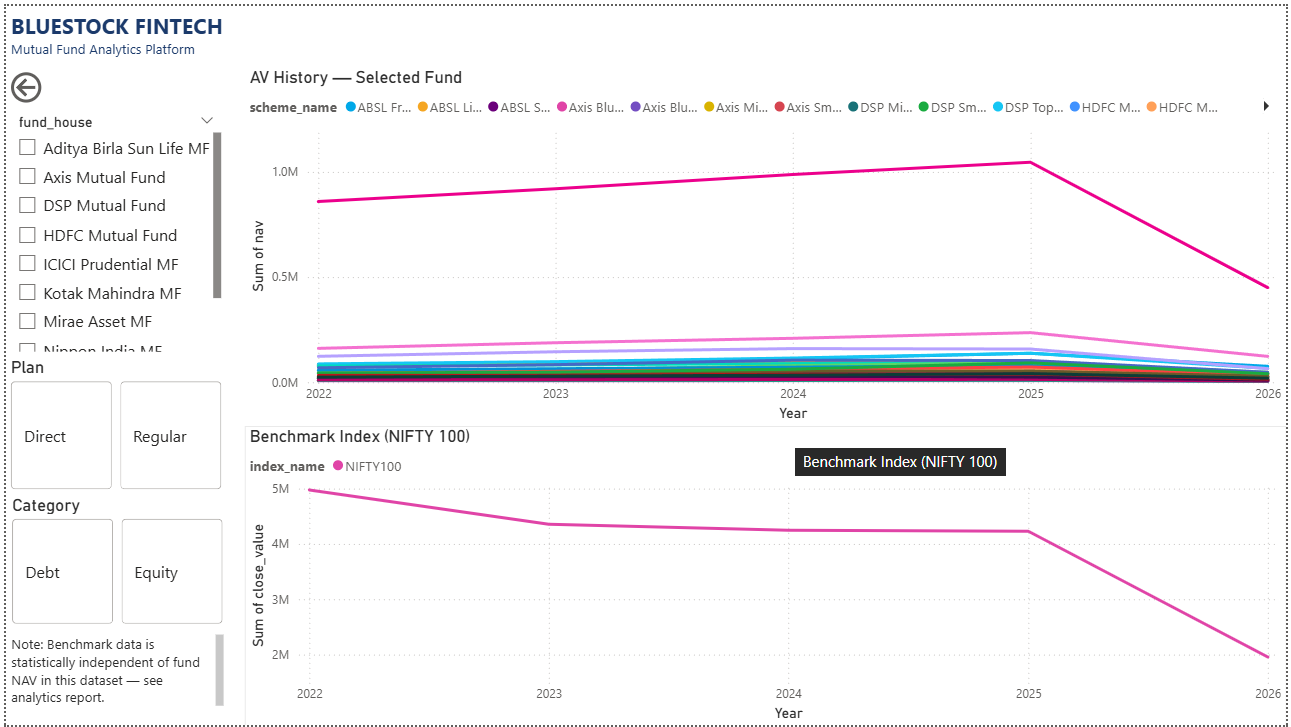

The page's visual inventory and layout, read from the dashboard file:
{"tool":"powerbi","page":{"name":"NAV Detail","canvas":[1280,720],"ordinal":4},"visuals":[{"type":"slicer","title":"Fund House","fields":{"Values":["01_fund_master_clean.fund_house"]},"box":[0,102.7,220.1,248.2],"z":3000},{"type":"advancedSlicerVisual","title":"Category","fields":{"Values":["01_fund_master_clean.category"]},"box":[1.2,489.1,220.1,134.5],"z":4000},{"type":"advancedSlicerVisual","title":"Plan","fields":{"Values":["01_fund_master_clean.plan"]},"box":[0,351,220.1,138.2],"z":5000},{"type":"textbox","box":[0,623.6,222.6,96.6],"z":6000},{"type":"textbox","box":[0,0,238.5,61.1],"z":7000},{"type":"actionButton","box":[0,61.1,100.3,40.4],"z":7001},{"type":"lineChart","title":"Benchmark Index (NIFTY 100)","fields":{"Category":["10_benchmark_indices_clean.date.Variation.Date Hierarchy.Year","10_benchmark_indices_clean.date.Variation.Date Hierarchy.Quarter","10_benchmark_indices_clean.date.Variation.Date Hierarchy.Month","10_benchmark_indices_clean.date.Variation.Date Hierarchy.Day"],"Y":["Sum(10_benchmark_indices_clean.close_value)"],"Series":["10_benchmark_indices_clean.index_name"]},"box":[238.8,420,1041.2,300],"z":7002},{"type":"lineChart","title":"AV History — Selected Fund","fields":{"Category":["02_nav_history_clean.date.Variation.Date Hierarchy.Year","02_nav_history_clean.date.Variation.Date Hierarchy.Quarter","02_nav_history_clean.date.Variation.Date Hierarchy.Month","02_nav_history_clean.date.Variation.Date Hierarchy.Day"],"Y":["Sum(02_nav_history_clean.nav)"],"Series":["01_fund_master_clean.scheme_name"]},"box":[238.8,61.2,1041.2,358.8],"z":7004}]}

Visuals, with their boxes on the page's 1280x720 design canvas (x1, y1, x2, y2). These are canvas units, not pixel positions in the 1291x727 screenshot, which may show the page scaled, cropped or inside an application window:
"Fund House" slicer: l=0, t=103, r=220, b=351
"Category" advancedSlicerVisual: l=1, t=489, r=221, b=624
"Plan" advancedSlicerVisual: l=0, t=351, r=220, b=489
textbox: l=0, t=624, r=223, b=720
textbox: l=0, t=0, r=238, b=61
actionButton: l=0, t=61, r=100, b=102
"Benchmark Index (NIFTY 100)" lineChart: l=239, t=420, r=1280, b=720
"AV History — Selected Fund" lineChart: l=239, t=61, r=1280, b=420
